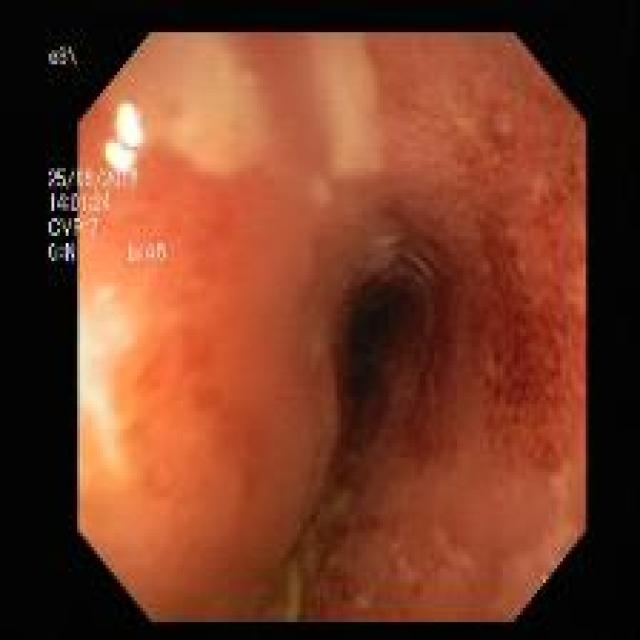ulcerative-colitis: (269, 41, 585, 621)
